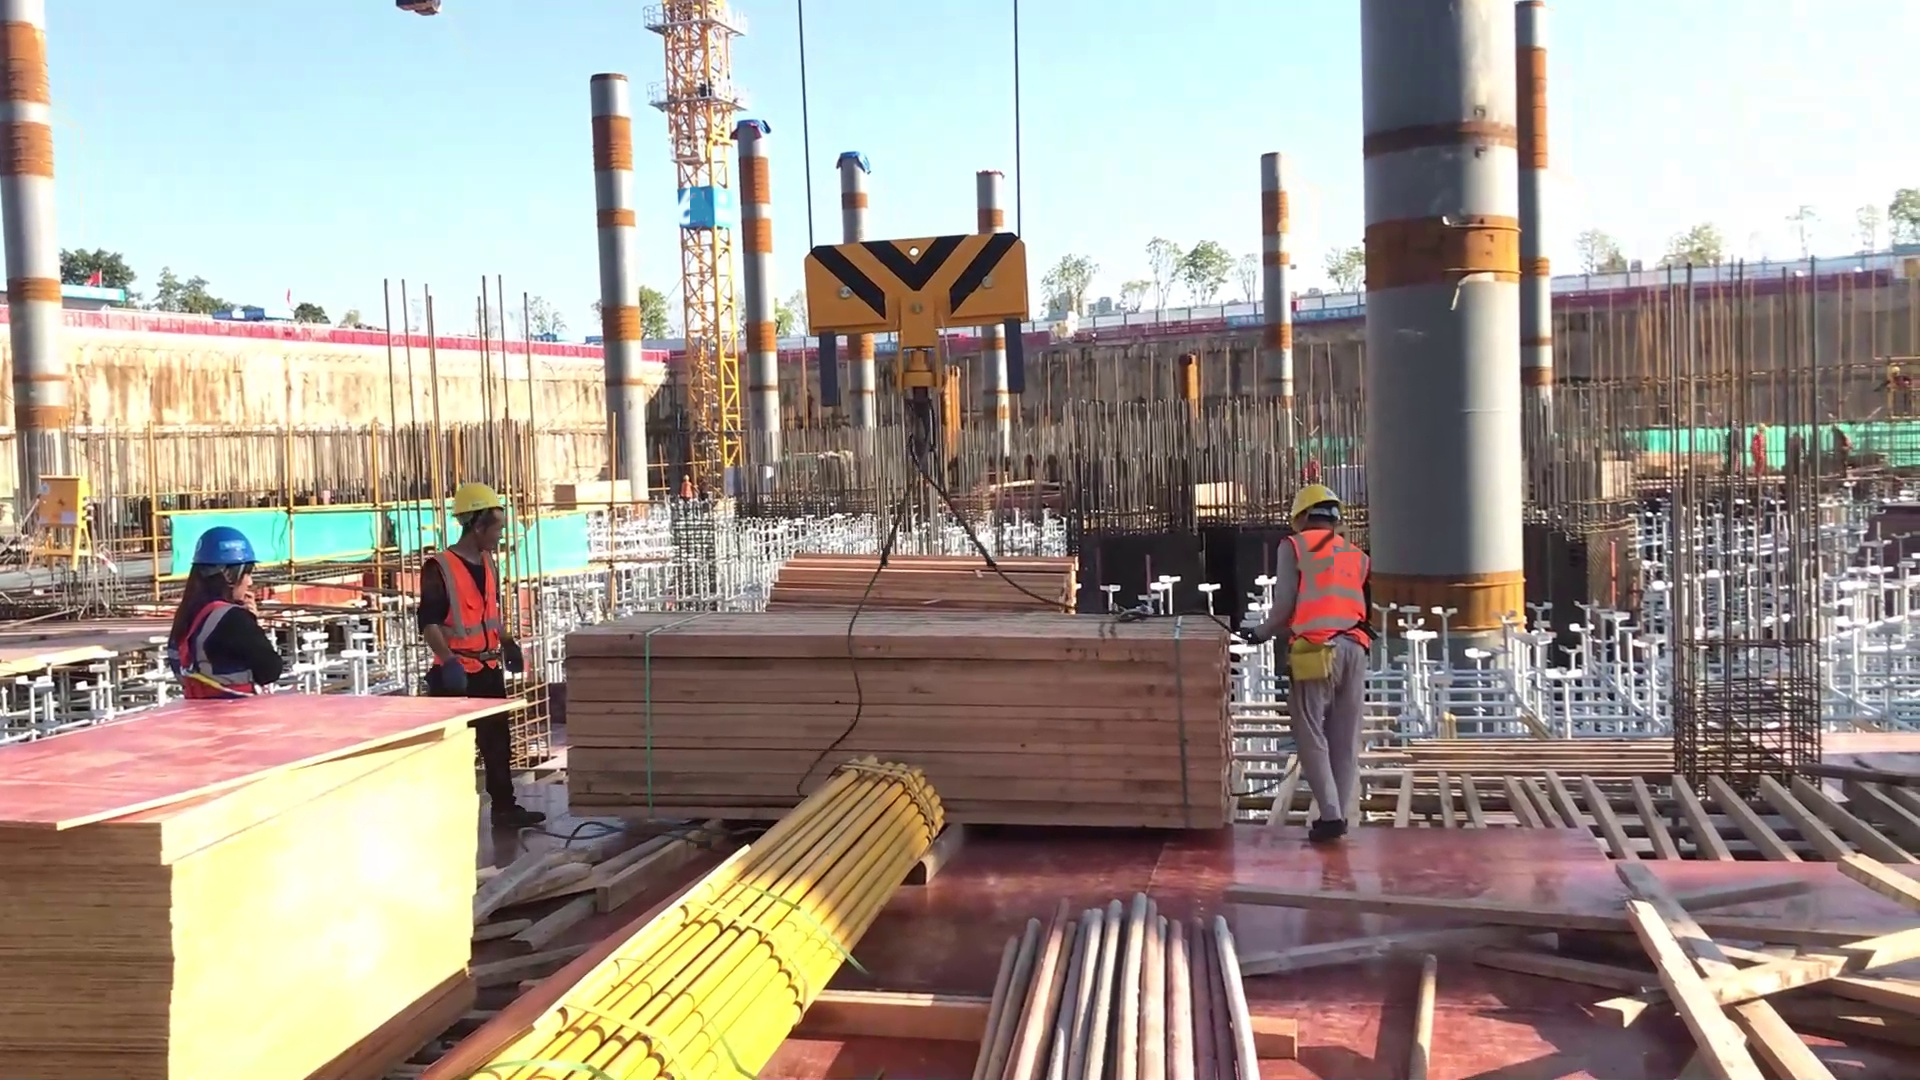board: (16, 691, 544, 1080)
ebox: (21, 461, 101, 577)
helmet: (188, 519, 271, 573), (443, 470, 525, 523), (1279, 476, 1352, 529)
hook: (785, 223, 1059, 465)
person: (1252, 469, 1398, 846), (404, 465, 547, 824), (175, 507, 300, 700)
rebar: (948, 884, 1248, 1080)
vest: (152, 584, 270, 710), (408, 541, 515, 677), (1279, 527, 1374, 658)
wood: (550, 614, 1248, 841)
